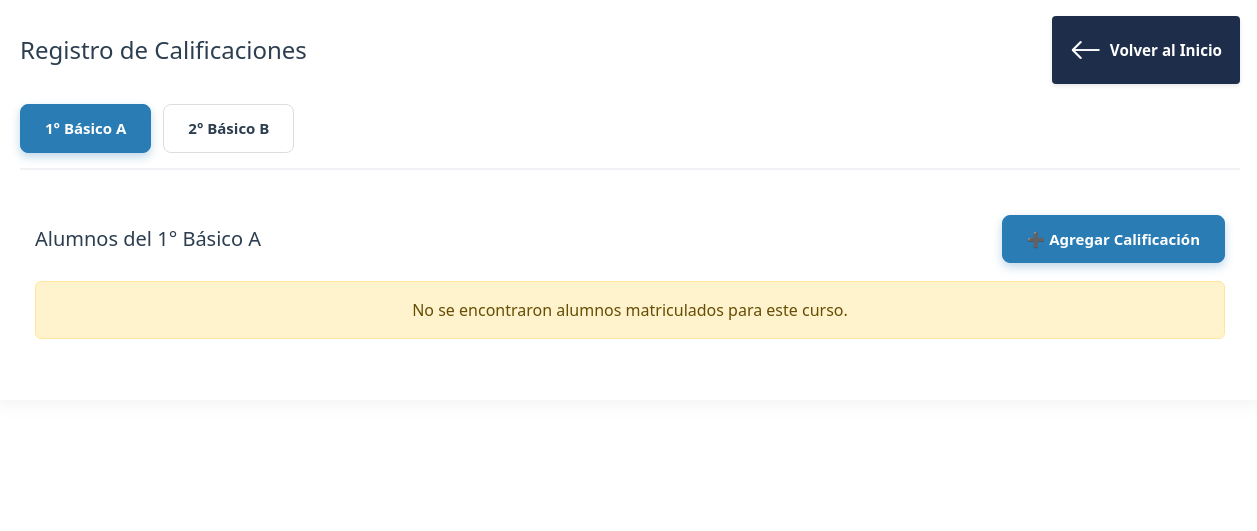
Scenario: Calificaciones › Modo crear calificación › botón 'Cancelar' vuelve al modo lectura y limpia el formulario
This screenshot has width=1257, height=531.
Click the button "➕ Agregar Calificación" at (1113, 239), box x1=1002 y1=214 x2=1225 y2=263
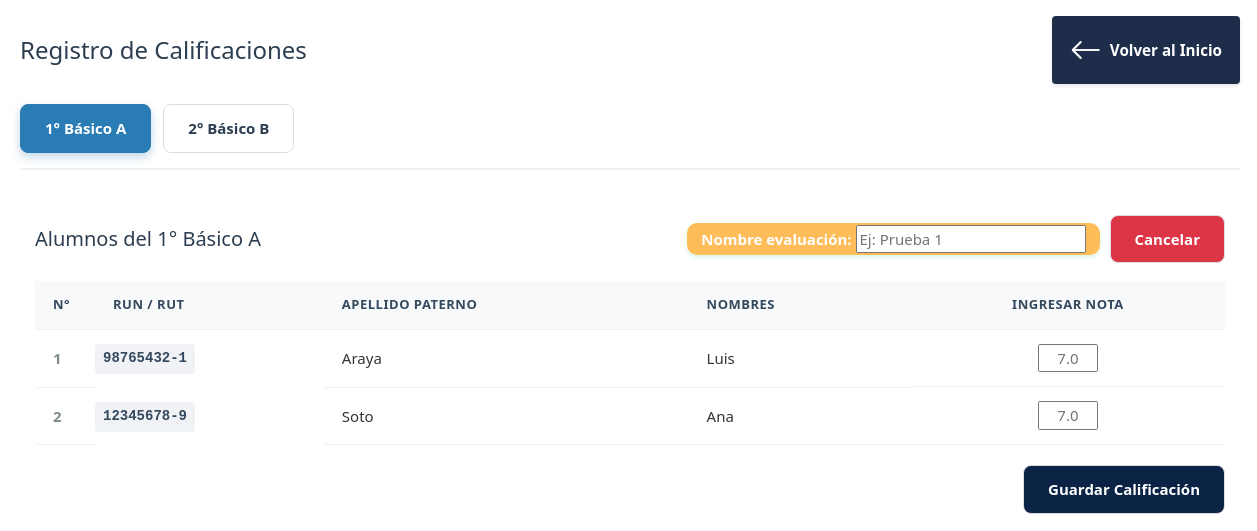
Type "Prueba 1" into the field with placeholder "Ej: Prueba 1" at (970, 239), box x1=856 y1=224 x2=1086 y2=253
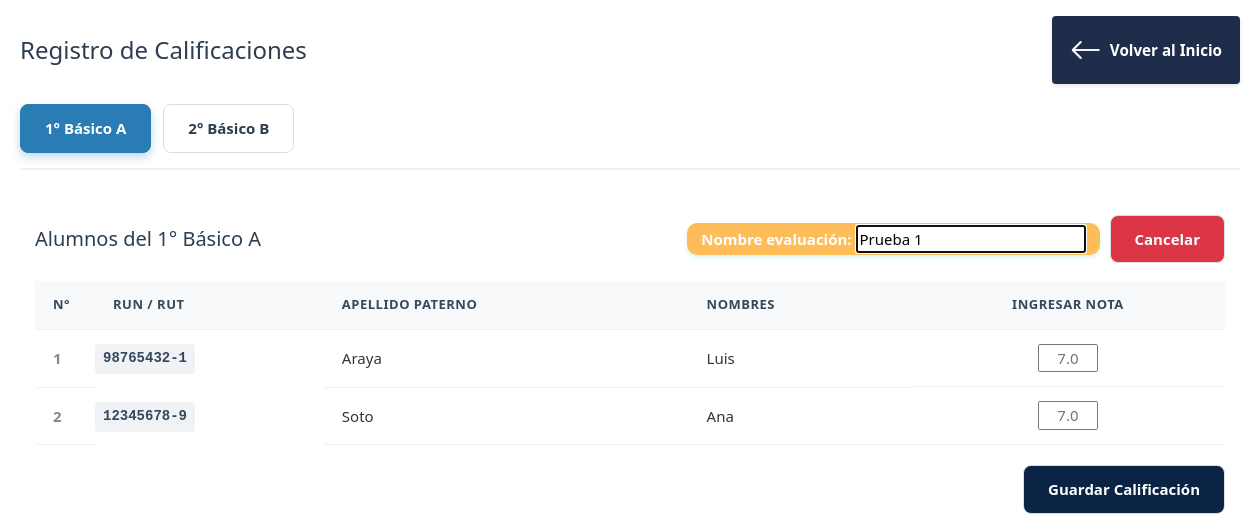
Click the button "Cancelar" at (1167, 239), box x1=1110 y1=214 x2=1225 y2=263
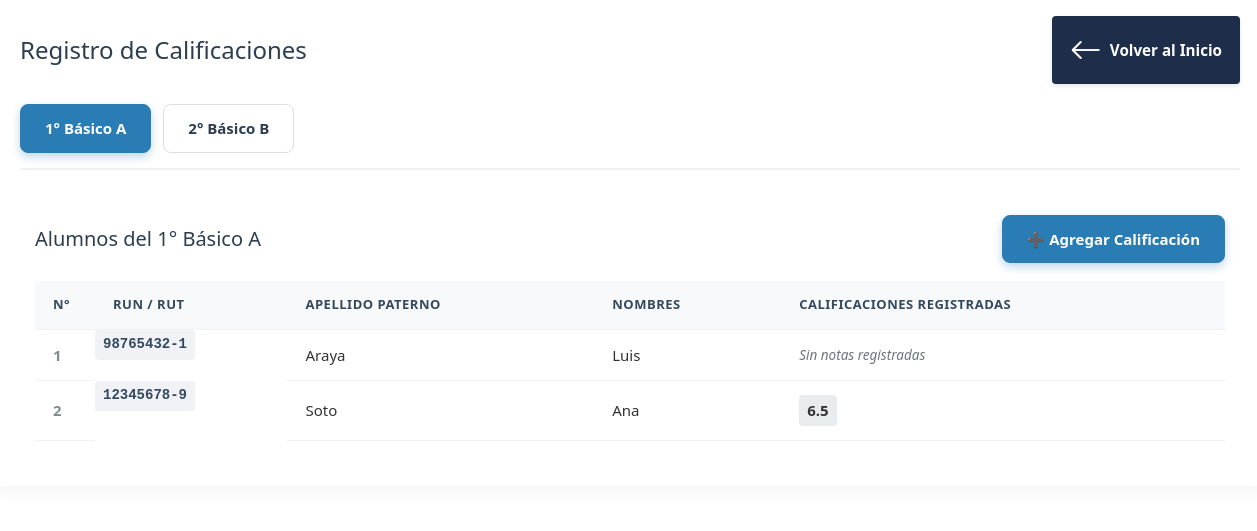
Expected: the field with placeholder "Ej: Prueba 1" is not shown
Expected: the button "➕ Agregar Calificación" is shown, x1=1002 y1=214 x2=1225 y2=263
